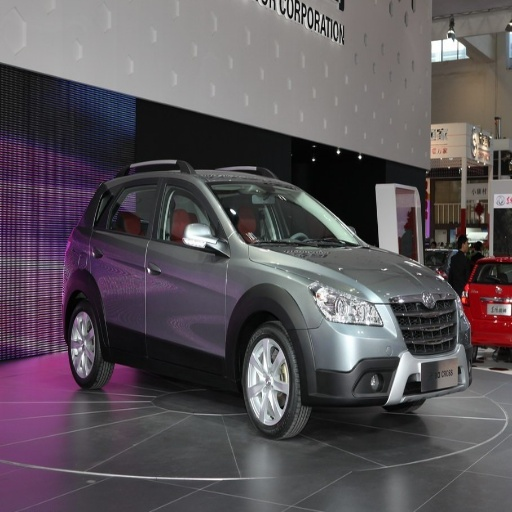front_bumper: (300, 293, 470, 409)
front_right_door: (145, 177, 228, 370)
front_right_light: (310, 276, 382, 325)
